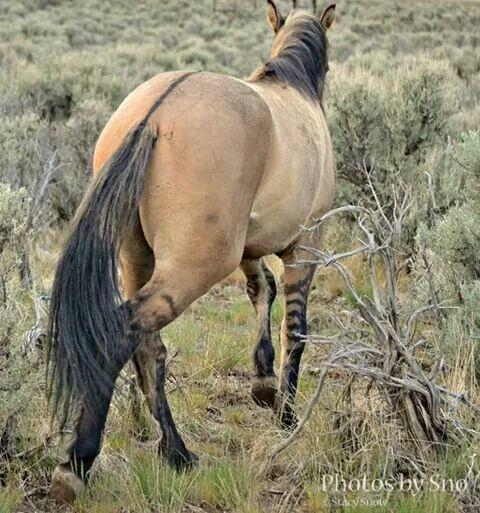horse: (42, 0, 338, 503)
